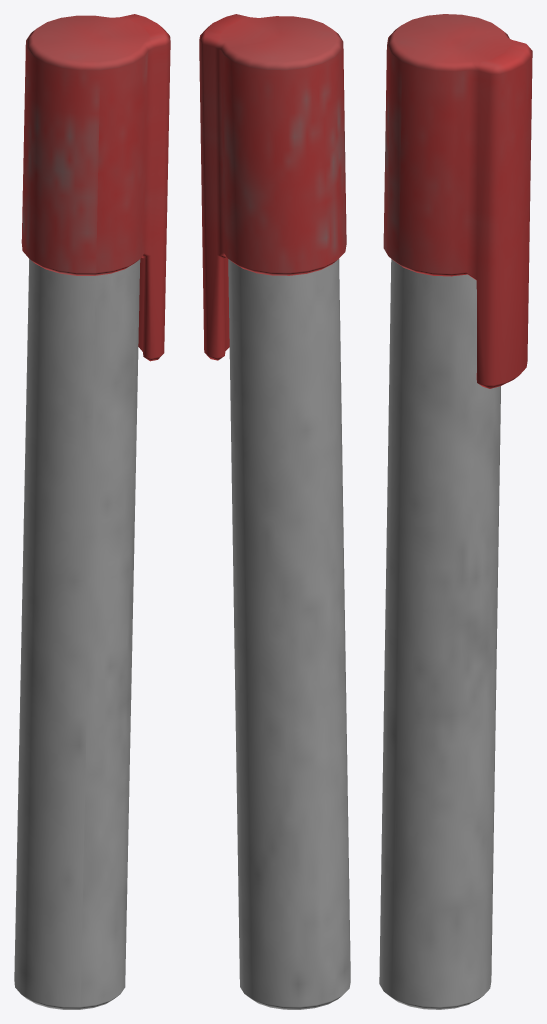
The model's file is SM_Marker_Pen.fbx.
3 views of the same model, side by side, from view 1: azimuth 30°, elevation 25°; view 2: azimuth 150°, elevation 25°; view 3: azimuth 330°, elevation 25° (orthographic).
Parts seen in each view (by area): view 1: SM_Marker_Pen_LOD0; view 2: SM_Marker_Pen_LOD0; view 3: SM_Marker_Pen_LOD0.
Part boxes in pixels (x1,y1,x2,y2): SM_Marker_Pen_LOD0: (14, 14, 170, 1009); SM_Marker_Pen_LOD0: (199, 14, 350, 1009); SM_Marker_Pen_LOD0: (379, 14, 532, 1009).
Size of the model in its own units: 1.34 by 1.05 by 8.75.
Materials: 1 (1 with a texture image).
